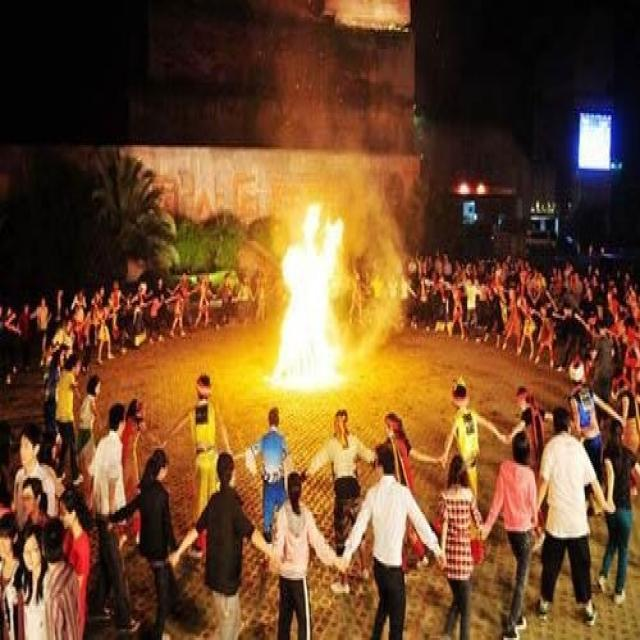Fire: (265, 200, 347, 390)
Smoke: (336, 162, 424, 367)
